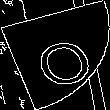O_N: (20, 23, 90, 87)
